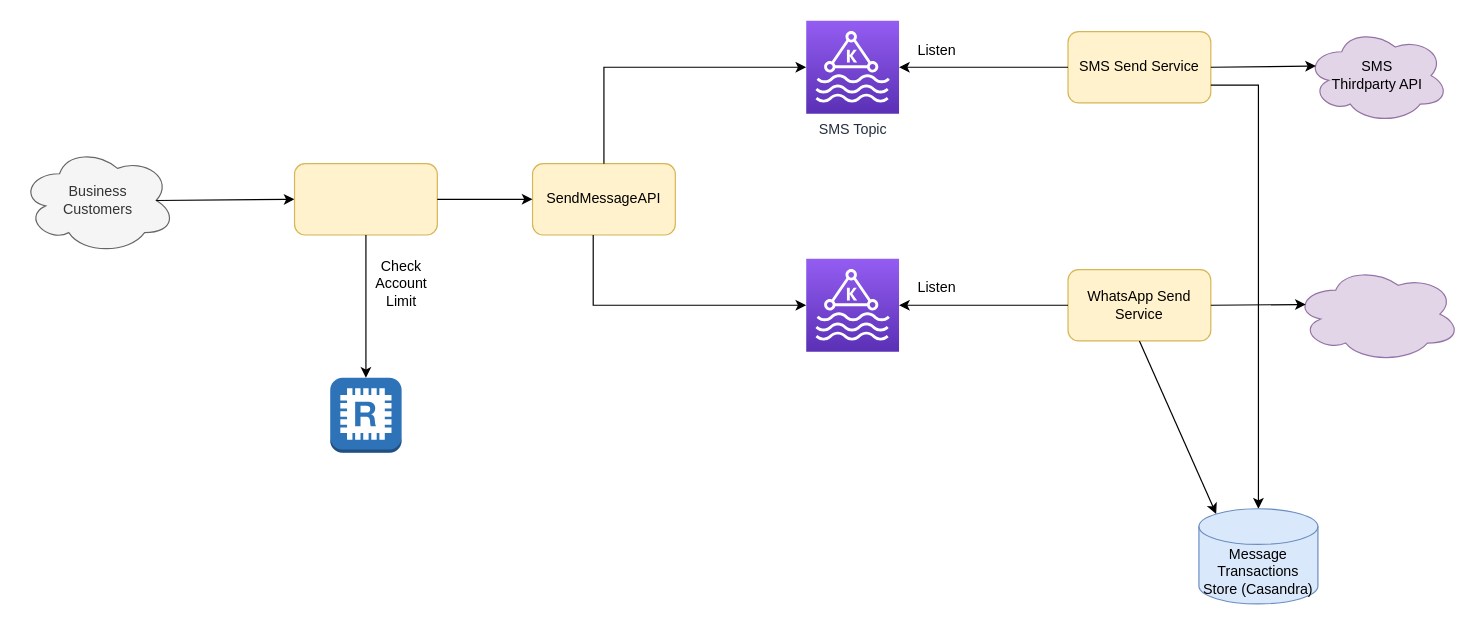
Image size: 1482x625. Some labels were removed from this diagram. Here are the shapes that lost their labels. From the top down, the centre of each, then its label:
[365,198]: Check RateLimiting
[852,305]: WhatsApp Topic
[1377,313]: WhatsApp ThirdParty API
